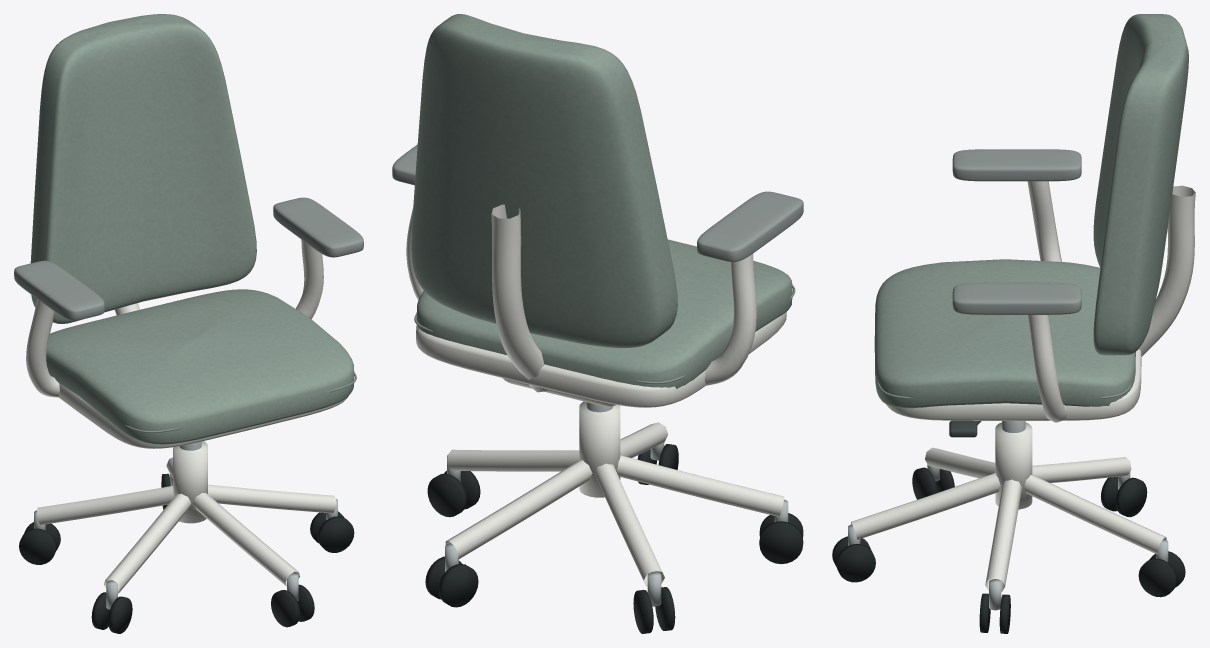
File: chair.glb
3 views of the same model, side by side, from view 1: azimuth 30°, elevation 25°; view 2: azimuth 150°, elevation 25°; view 3: azimuth 270°, elevation 25° (orthographic). The views are drawn at different scales.
Parts seen in each view (by area): view 1: Waterfall upholstered seat, Lift cover, Soft arm cap, Twin rubber caster, Gas lift; view 2: Waterfall upholstered seat, Lift cover, Twin rubber caster, Soft arm cap, Gas lift; view 3: Waterfall upholstered seat, Lift cover, Soft arm cap, Twin rubber caster, Gas lift, Tilt control lever.
Part boxes in pixels (x1=…): Waterfall upholstered seat: x1=30, y1=14, x2=354, y2=444; Lift cover: x1=26, y1=239, x2=347, y2=593; Soft arm cap: x1=14, y1=197, x2=363, y2=320; Twin rubber caster: x1=19, y1=473, x2=354, y2=633; Gas lift: x1=34, y1=441, x2=337, y2=609; Waterfall upholstered seat: x1=411, y1=14, x2=792, y2=388; Lift cover: x1=406, y1=204, x2=786, y2=586; Twin rubber caster: x1=425, y1=444, x2=803, y2=633; Soft arm cap: x1=392, y1=144, x2=803, y2=261; Gas lift: x1=445, y1=402, x2=788, y2=606; Waterfall upholstered seat: x1=874, y1=14, x2=1188, y2=408; Lift cover: x1=851, y1=181, x2=1195, y2=591; Soft arm cap: x1=952, y1=149, x2=1081, y2=314; Twin rubber caster: x1=832, y1=467, x2=1185, y2=633; Gas lift: x1=848, y1=421, x2=1168, y2=610; Tilt control lever: x1=949, y1=420, x2=981, y2=437.
Size of the model in its own units: 0.6501 by 1.02 by 0.6472.
7 materials, 1 textured.
